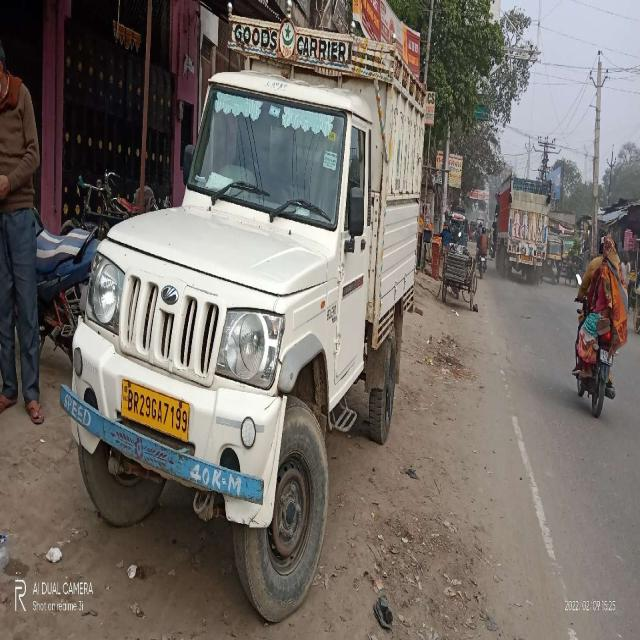light_vehicle: (62, 52, 424, 510)
